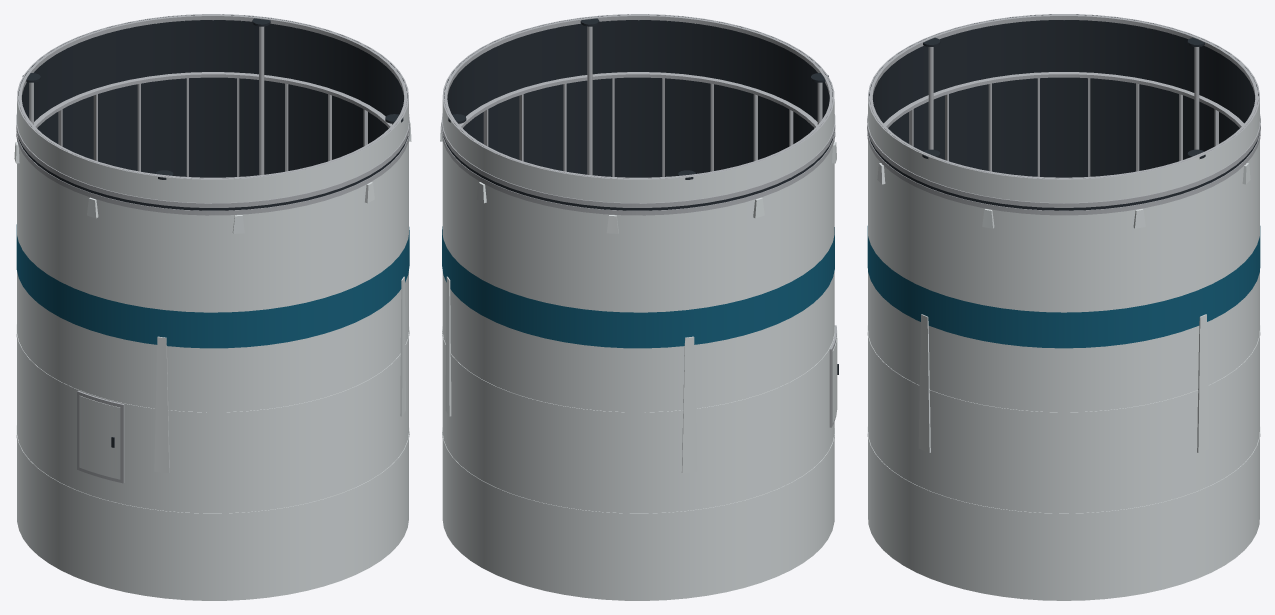
The model's file is interstage_pneumatic_d54.fbx.
The picture shows the model from 3 angles, left to right: view 1: azimuth 30°, elevation 25°; view 2: azimuth 150°, elevation 25°; view 3: azimuth 270°, elevation 25°; orthographic projection.
Parts seen in each view (by area): view 1: interstage_pneumatic_d54_LOD0; view 2: interstage_pneumatic_d54_LOD0; view 3: interstage_pneumatic_d54_LOD0.
Part boxes in pixels (x1=…): interstage_pneumatic_d54_LOD0: x1=14, y1=14, x2=411, y2=600; interstage_pneumatic_d54_LOD0: x1=440, y1=14, x2=838, y2=600; interstage_pneumatic_d54_LOD0: x1=867, y1=14, x2=1260, y2=600.
Size of what is drawn, in the model's own units: 5.42 by 6.4 by 5.42.
